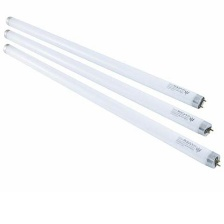light_bulb: (1, 42, 223, 172), (2, 28, 216, 139), (3, 14, 207, 111)
